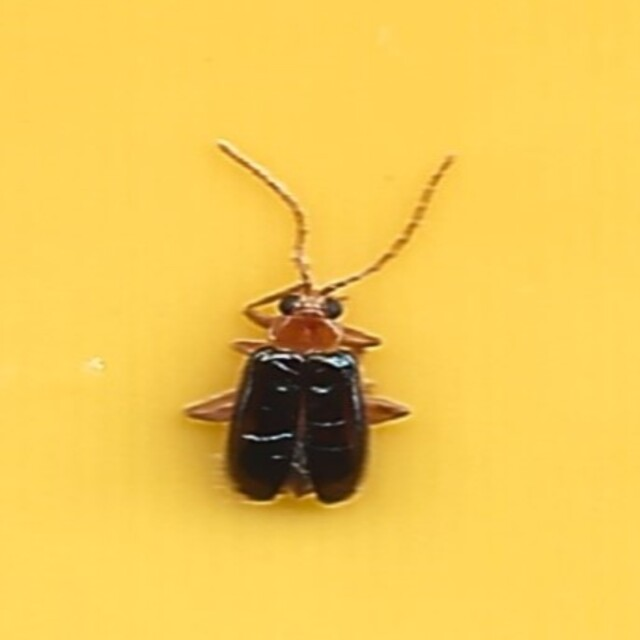Coleoptera: (187, 138, 453, 502)
